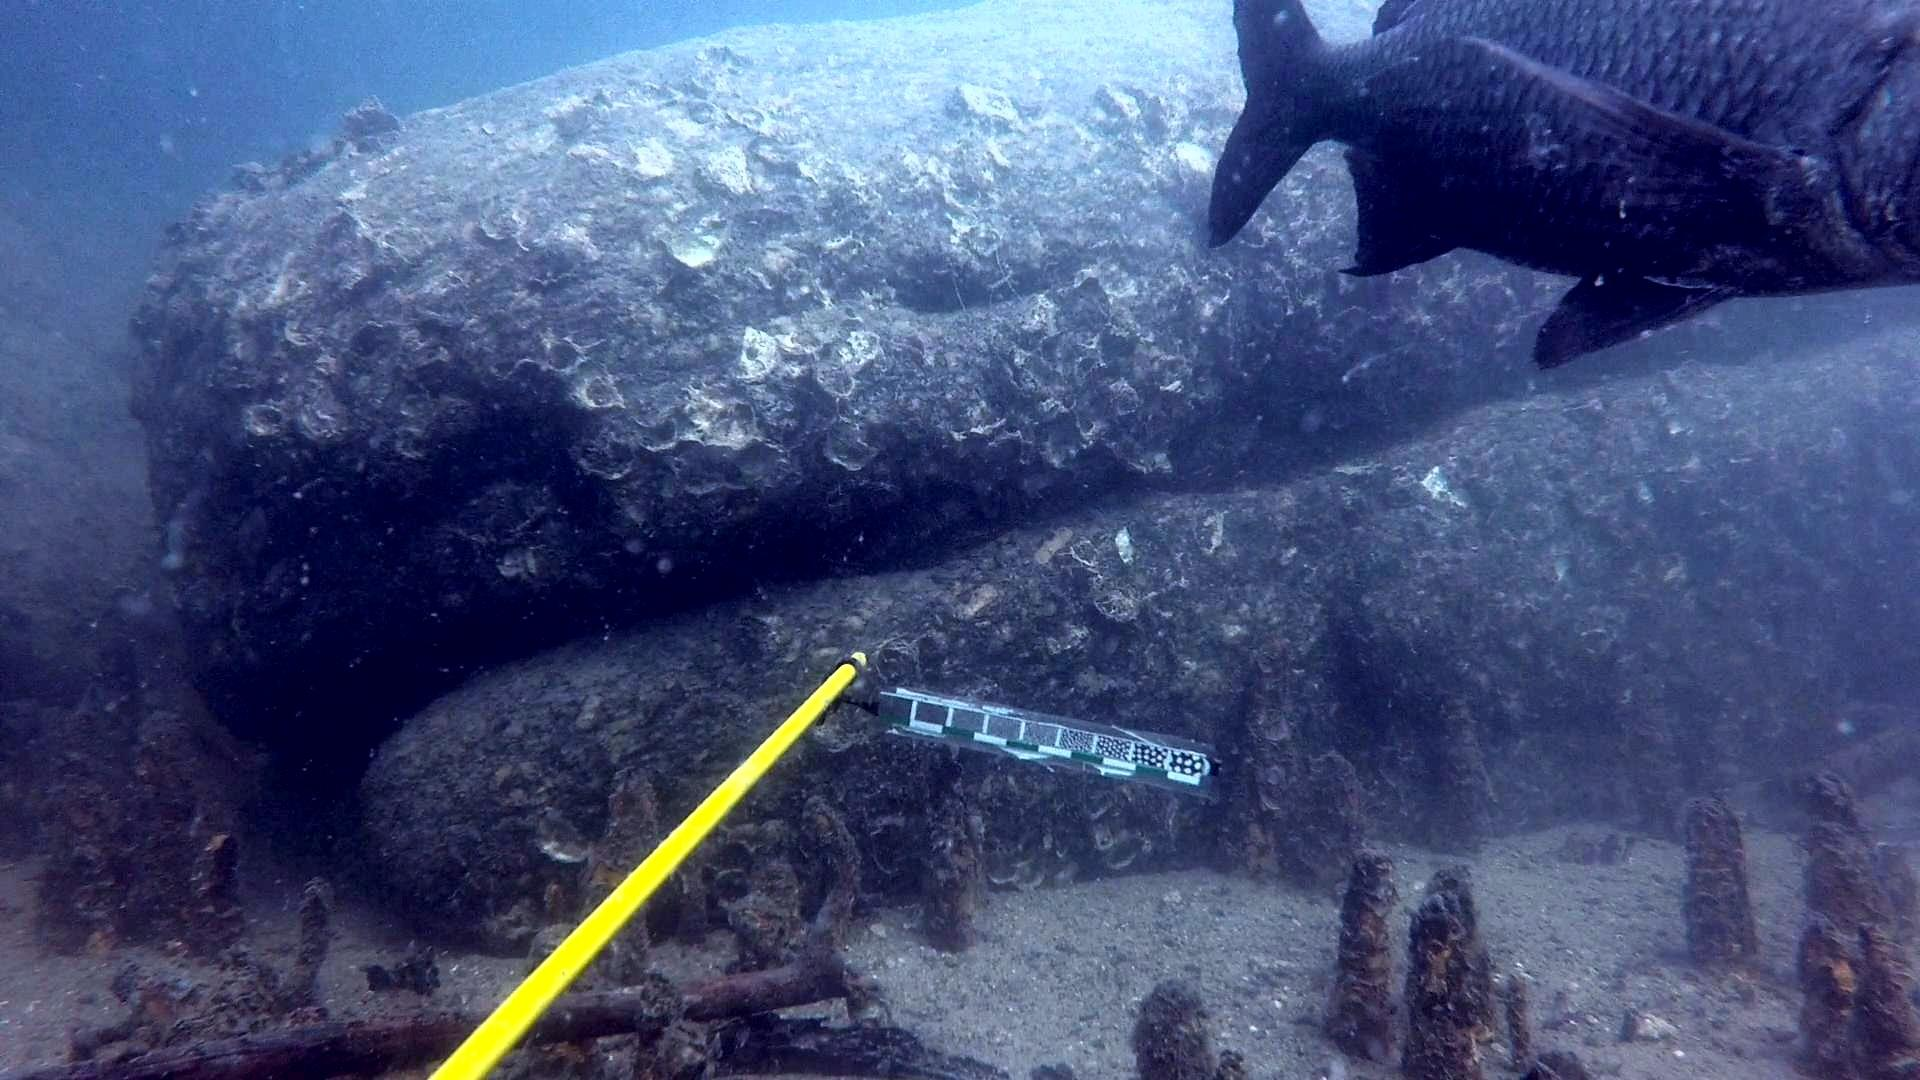acanthopagrus palmaris: (1200, 0, 1920, 384)
